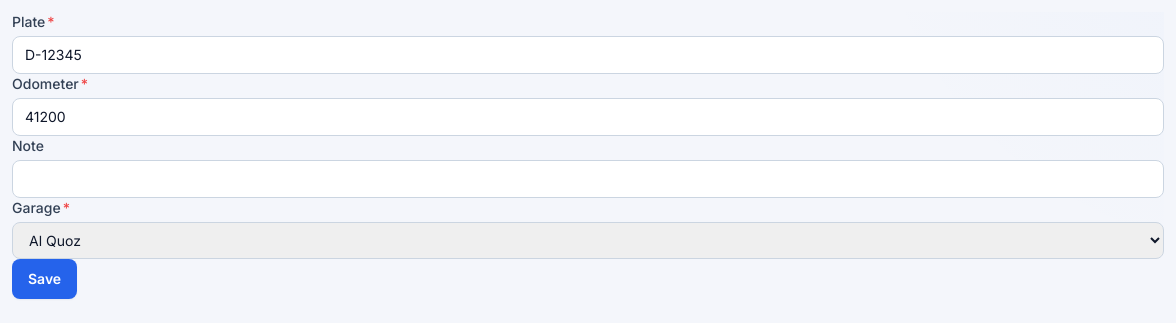
a custom hint shows alongside the missing fields
Hover over the element showing "Save": coordinates (45, 279) [12, 259, 77, 299]
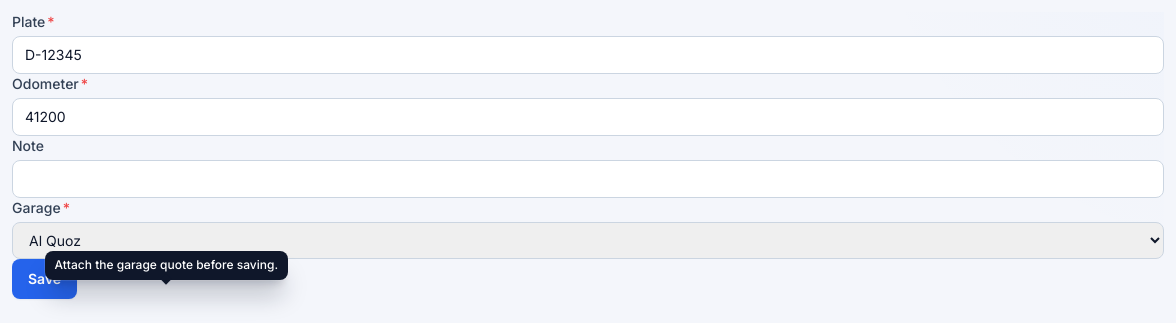
expect the tooltip reads "Attach the garage quote before saving.": met, box [55, 257, 278, 272]
